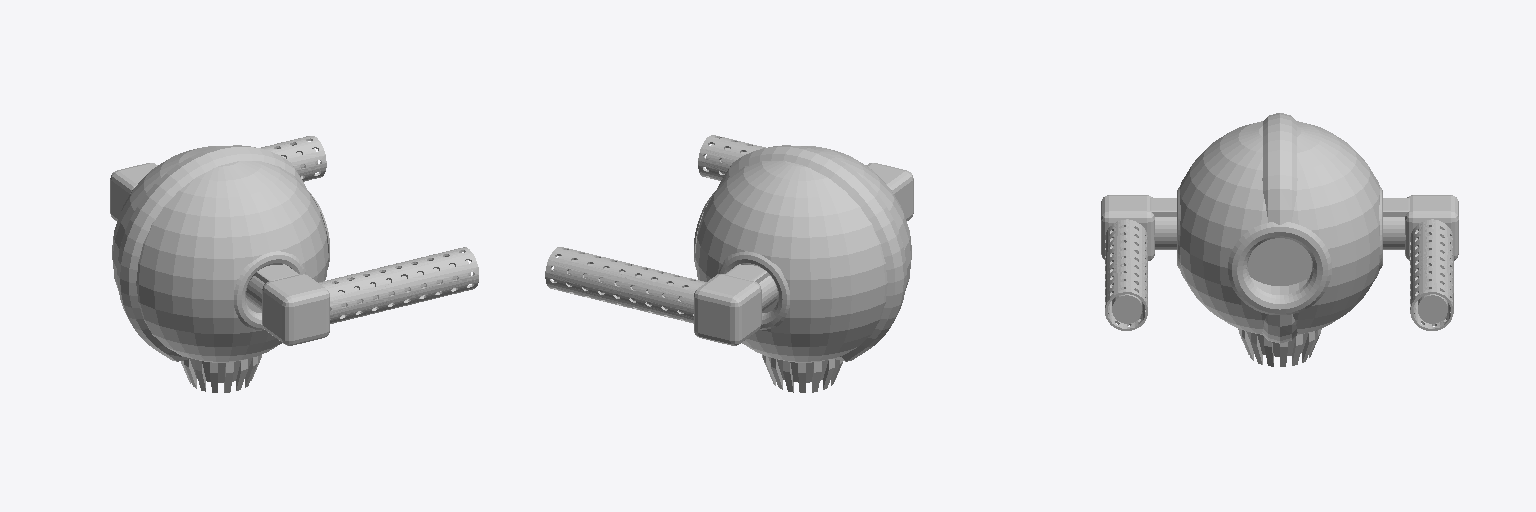
Rendered from BOIDJoined.obj.
3 renders of one model, left to right at view 1: azimuth 30°, elevation 25°; view 2: azimuth 150°, elevation 25°; view 3: azimuth 270°, elevation 25°, orthographic.
Visible parts, largest first — view 1: Cube.004; view 2: Cube.004; view 3: Cube.004.
Part boxes in pixels (left/top/right/bottom): Cube.004: left=110, top=136, right=478, bottom=392; Cube.004: left=545, top=135, right=913, bottom=392; Cube.004: left=1101, top=113, right=1458, bottom=366.
Size of the model in its own units: 2.89 by 2.34 by 3.3.